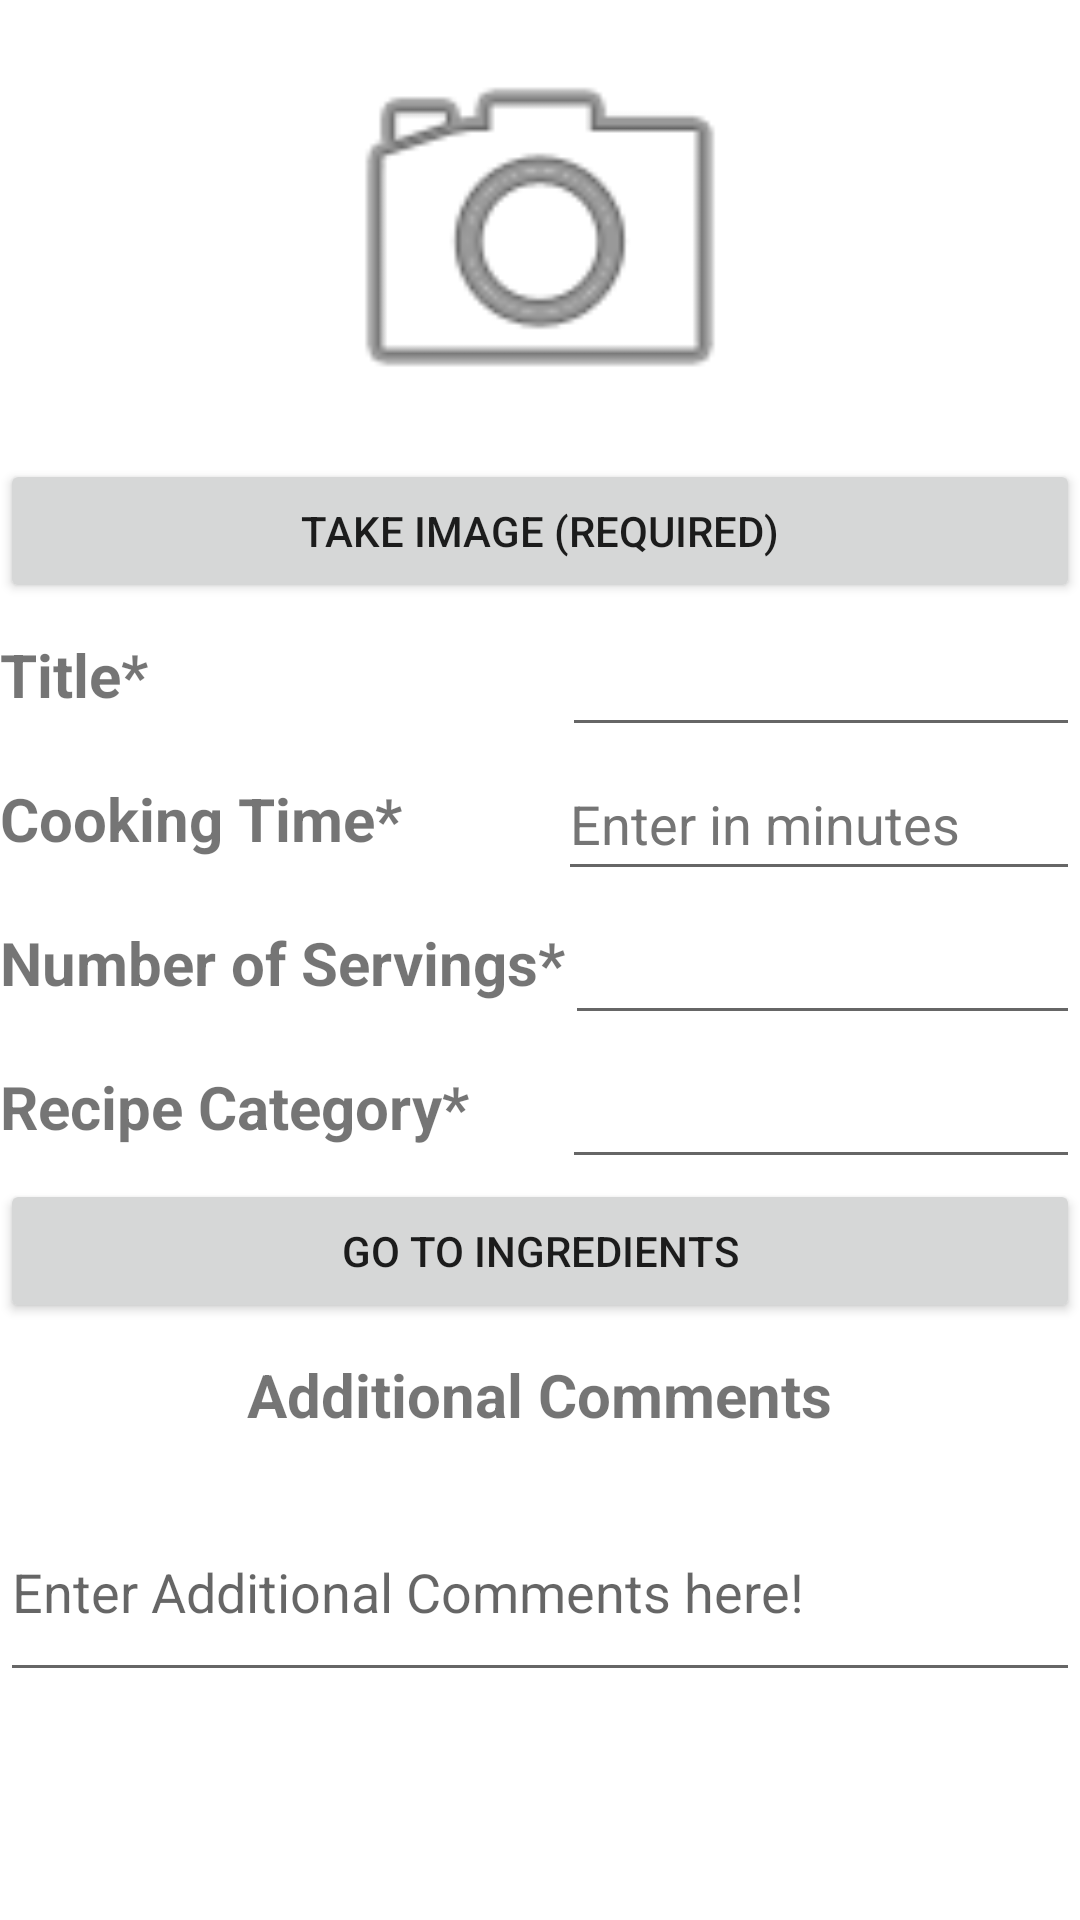

Point at icon controls on the screen. Image size 1080×1920, points as (x,y).
camera: (540,227)
